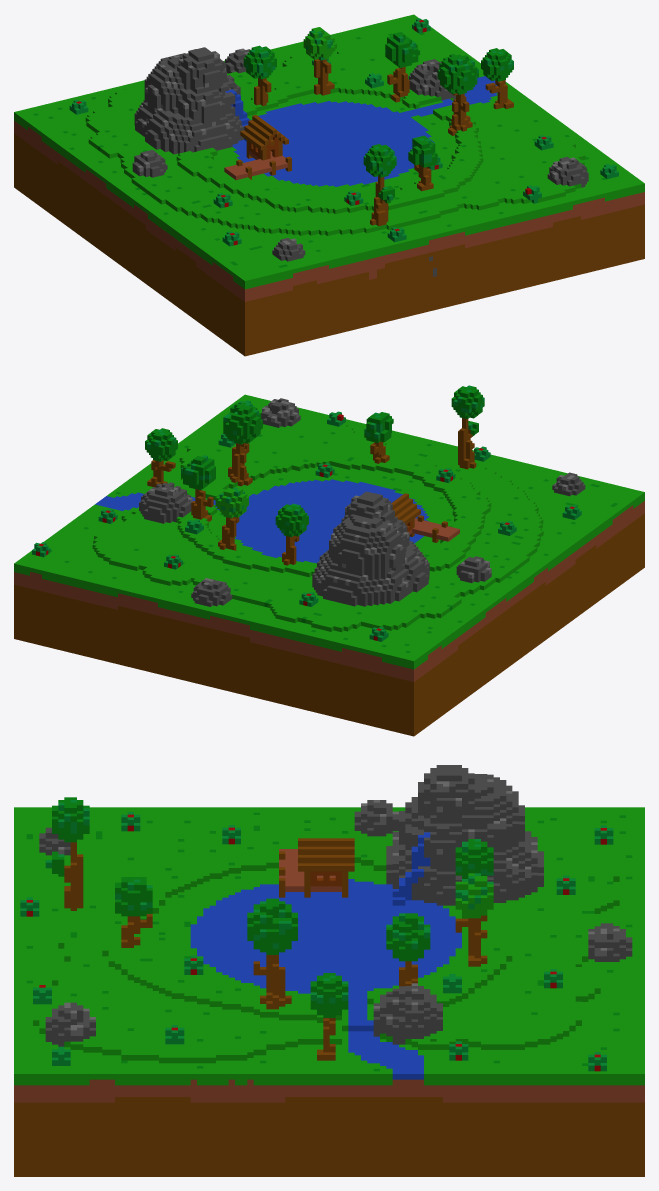
The model's file is island v.2.obj.
3 views of the same model, one above another, from view 1: azimuth 30°, elevation 25°; view 2: azimuth 150°, elevation 25°; view 3: azimuth 270°, elevation 25° (orthographic). The views are drawn at different scales.
Size of the model in its own units: 10 by 3.8 by 10.
1 material, 1 textured.
